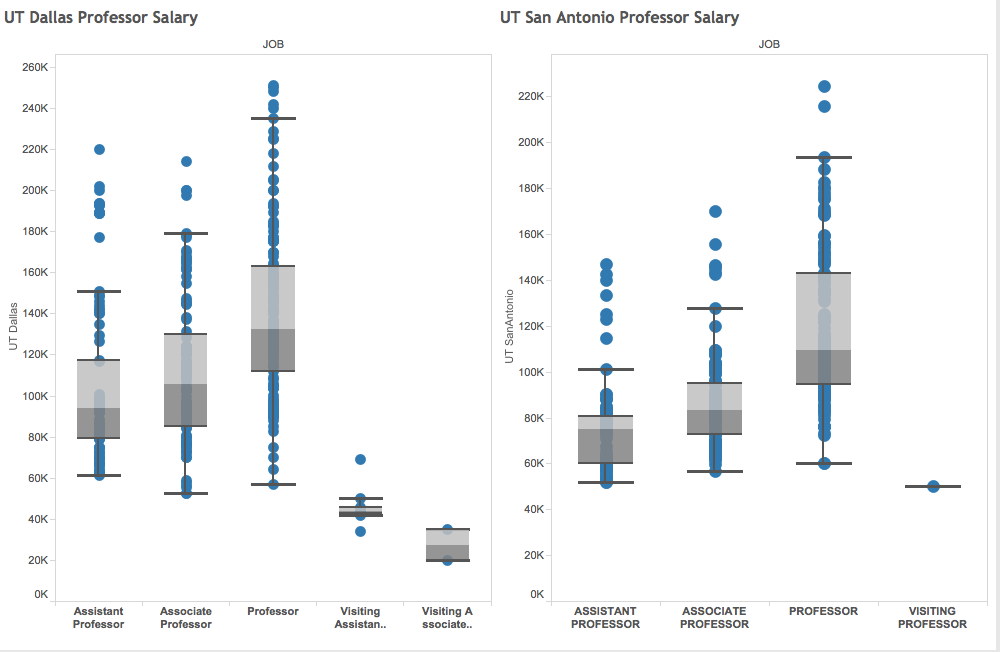

What the dashboard file says about the page in this screenshot:
{"tool":"tableau","page":{"name":"SalDashboard","canvas":[1000,650],"ordinal":1},"visuals":[{"type":"worksheet","title":"DallasProfSal","mark":"Circle","rows":["SALARY"],"cols":["JOB"],"box":[0,0,500,650]},{"type":"worksheet","title":"SanAntoProfSal","mark":"Circle","rows":["SALARY"],"cols":["JOB"],"box":[500,0,500,650]}]}

Visuals, with their boxes in screenshot pixels (x1, y1, x2, y2), scaled from the page's 1000x650 canvas onto the 1000x652 screenshot:
"DallasProfSal" worksheet (Circle marks): region(0, 0, 500, 651)
"SanAntoProfSal" worksheet (Circle marks): region(500, 0, 999, 651)
